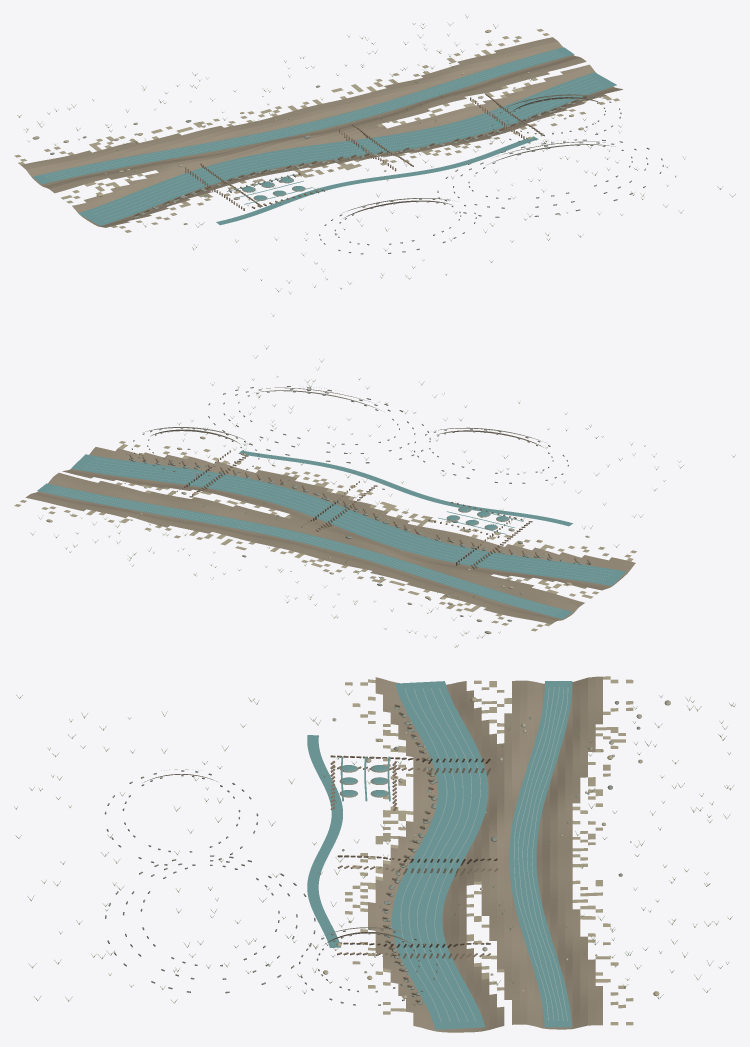
File: ALCHUL_M1_GEOMETRY_04.glb
3 renders of one model, top to bottom at view 1: azimuth 30°, elevation 25°; view 2: azimuth 150°, elevation 25°; view 3: azimuth 270°, elevation 25°, orthographic. The views are drawn at different scales.
Visible parts, largest first — view 1: m1__wet_silt, m1__water, m1__sand, m1__water_foam, m1__stone_dark, m1__root, m1__reed, m1__rock; view 2: m1__wet_silt, m1__water, m1__sand, m1__water_foam, m1__stone_dark, m1__root, m1__reed, m1__rock; view 3: m1__wet_silt, m1__water, m1__sand, m1__water_foam, m1__stone_dark, m1__root, m1__reed.
Boxes of the visible parts, x1,y1,x2,y2 form: m1__wet_silt: [21, 37, 622, 227]; m1__water: [32, 47, 616, 225]; m1__sand: [14, 29, 619, 232]; m1__water_foam: [43, 50, 603, 220]; m1__stone_dark: [50, 85, 663, 254]; m1__root: [134, 94, 586, 216]; m1__reed: [17, 14, 735, 316]; m1__rock: [32, 87, 615, 224]; m1__wet_silt: [25, 387, 635, 624]; m1__water: [37, 450, 626, 619]; m1__sand: [14, 436, 636, 631]; m1__water_foam: [49, 458, 614, 615]; m1__stone_dark: [129, 386, 592, 621]; m1__root: [129, 450, 590, 569]; m1__reed: [30, 345, 735, 647]; m1__rock: [143, 386, 589, 634]; m1__wet_silt: [144, 676, 602, 1032]; m1__water: [307, 681, 572, 1029]; m1__sand: [323, 676, 659, 1025]; m1__water_foam: [400, 687, 568, 1022]; m1__stone_dark: [104, 701, 640, 1005]; m1__root: [330, 704, 498, 1002]; m1__reed: [14, 690, 735, 1005].
Size of the model in its own units: 115 by 3.4 by 100.
